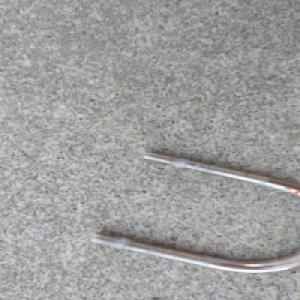ClampPart: (88, 150, 300, 274)
